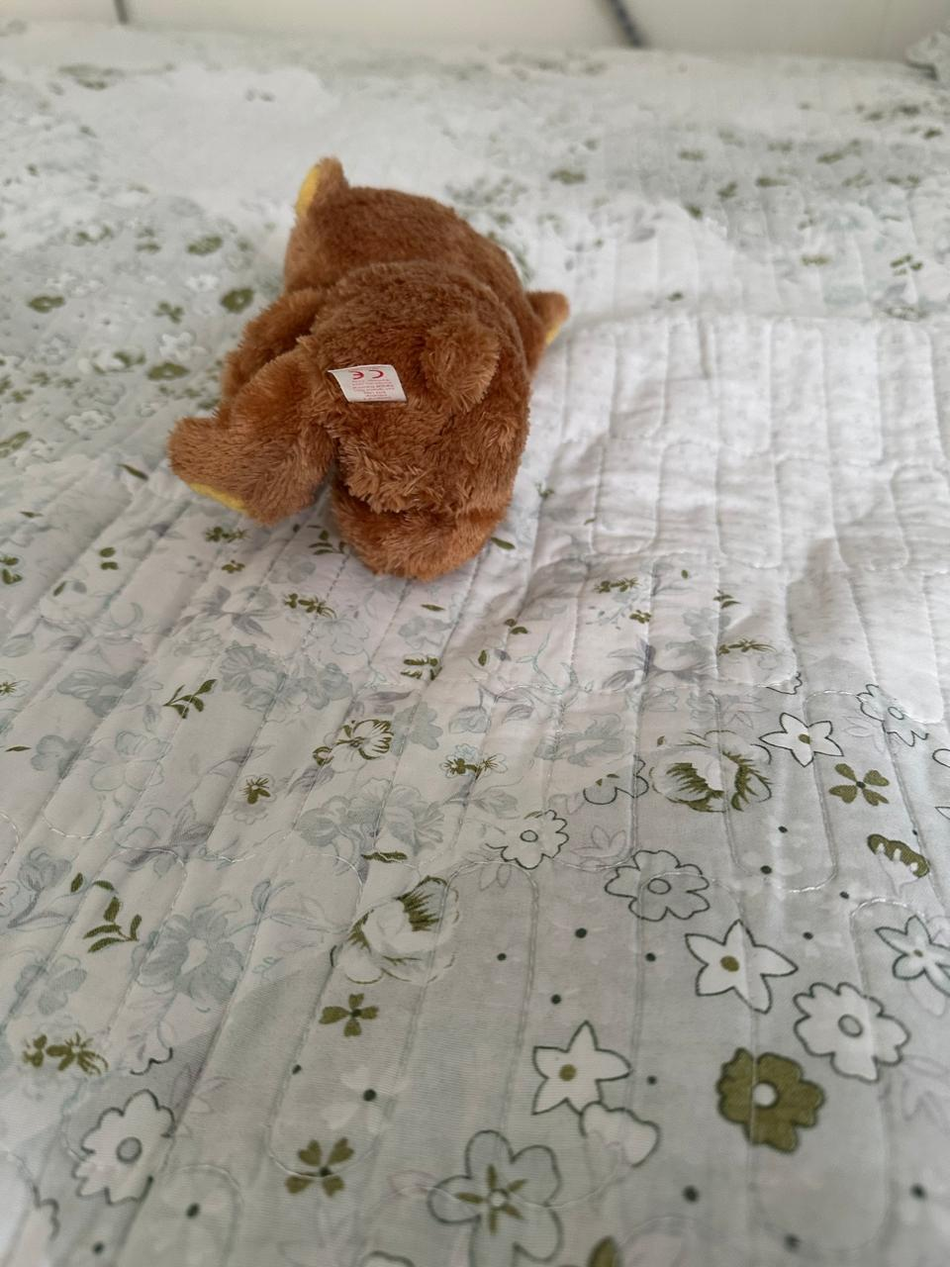peluche_sebastian: (163, 134, 569, 582)
